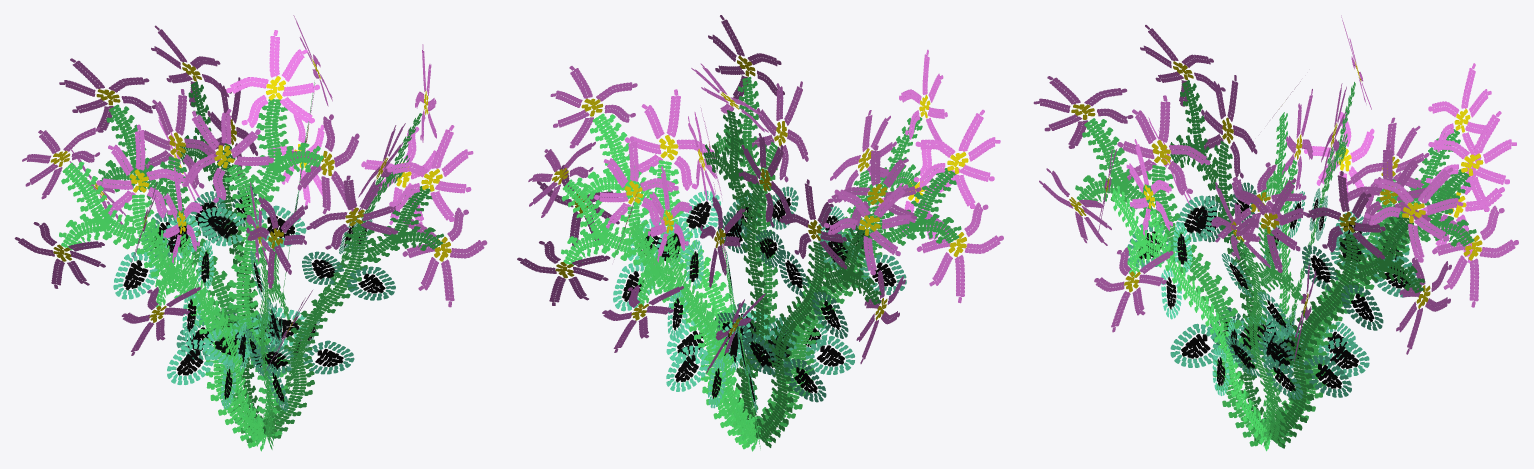
File: asters.glb
3 views of the same model, side by side, from view 1: azimuth 30°, elevation 25°; view 2: azimuth 150°, elevation 25°; view 3: azimuth 270°, elevation 25° (orthographic).
Parts seen in each view (by area): view 1: asters; view 2: asters; view 3: asters.
Boxes of the visible parts, bbox=[...] form: asters: bbox=[14, 15, 487, 451]; asters: bbox=[517, 15, 1003, 451]; asters: bbox=[1033, 15, 1518, 451].
Size of the model in its own units: 2.03 by 1.91 by 2.1.
Materials: 1 (1 with a texture image).
